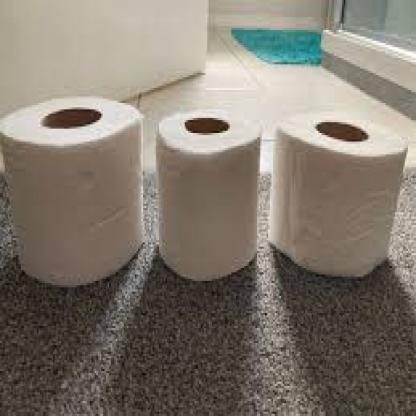tissue: (3, 98, 141, 285), (273, 107, 400, 276), (155, 100, 263, 280)
